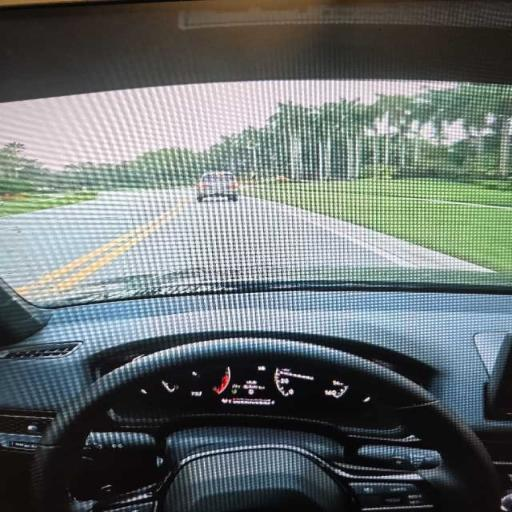car: (0, 0, 511, 511), (196, 172, 239, 201)
lane: (0, 189, 485, 301), (0, 191, 187, 288)
